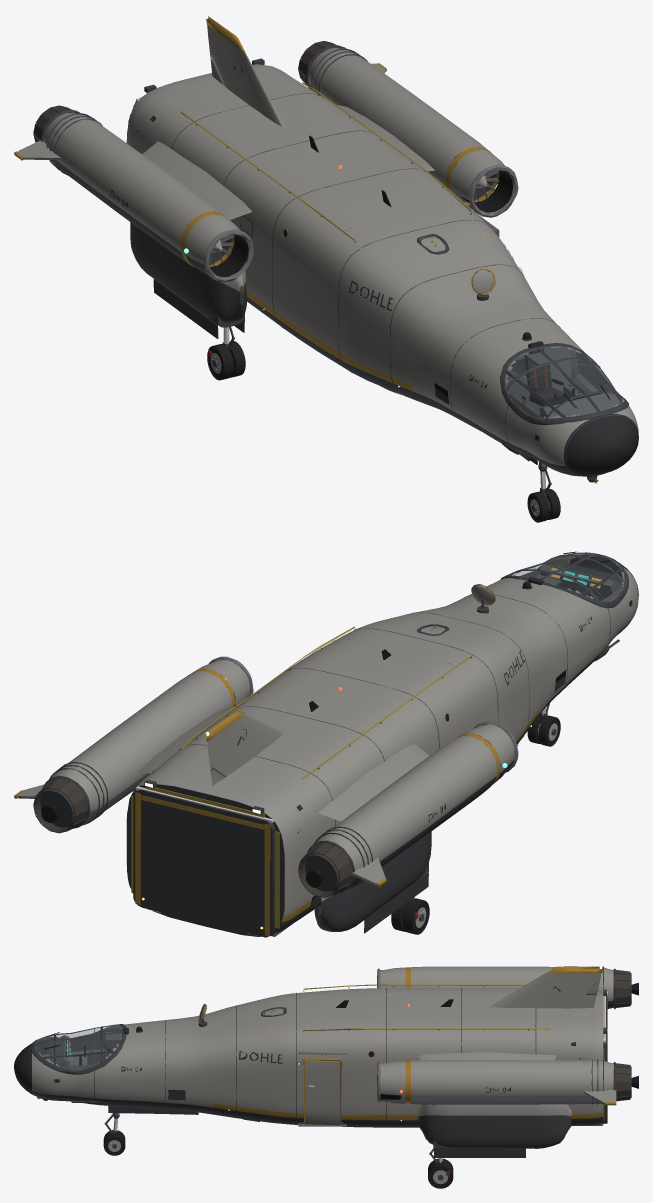
File: DohleFern.90987d950e.glb
3 renders of one model, top to bottom at view 1: azimuth 30°, elevation 25°; view 2: azimuth 150°, elevation 25°; view 3: azimuth 270°, elevation 25°, orthographic. The views are drawn at different scales.
Parts seen in each view (by area): view 1: Fahrwerkswulst links.001, Kanzelglas.001, Flosse.002, Dachluke.001, Rumpf.004, Antenne.004, Gondel links.001, Dachlukenfuge.001, Einlasslippe.002, Deckenpult.001, Handlaufstuetze.012, Duesenglocke.002 (+8 smaller); view 2: Fahrwerkswulst links.001, Rampenplatte.001, Flosse.002, Duesenglocke.002, Kanzelglas.001, Dachluke.001, Heckrahmen.001, Griff.005, Rampenrand aussen.002, Glut.002, Dachlukenfuge.001, Gondel links.001 (+9 smaller); view 3: Fahrwerkswulst links.001, Tuer.001, Kanzelglas.001, Dachluke.001, Gondel links.001, Flosse.002, Duesenglocke.002, Cockpitwanne.001, Griff.005, Wulstklappe.004, Deckenpult.001, Dachlukenfuge.001 (+8 smaller).
Boxes of the visible parts, bbox=[...] form: Fahrwerkswulst links.001: bbox=[43, 24, 638, 476]; Kanzelglas.001: bbox=[506, 346, 624, 418]; Flosse.002: bbox=[18, 63, 494, 294]; Dachluke.001: bbox=[41, 45, 628, 424]; Rumpf.004: bbox=[564, 414, 638, 475]; Antenne.004: bbox=[150, 116, 610, 461]; Gondel links.001: bbox=[180, 16, 499, 391]; Dachlukenfuge.001: bbox=[172, 93, 638, 476]; Einlasslippe.002: bbox=[204, 164, 518, 281]; Deckenpult.001: bbox=[515, 348, 620, 418]; Handlaufstuetze.012: bbox=[46, 48, 547, 406]; Duesenglocke.002: bbox=[33, 41, 598, 483]; Fahrwerkswulst links.001: bbox=[51, 553, 638, 936]; Rampenplatte.001: bbox=[133, 789, 275, 937]; Flosse.002: bbox=[17, 585, 494, 885]; Duesenglocke.002: bbox=[33, 601, 632, 919]; Kanzelglas.001: bbox=[511, 553, 624, 601]; Dachluke.001: bbox=[42, 552, 629, 893]; Heckrahmen.001: bbox=[127, 586, 610, 936]; Griff.005: bbox=[131, 626, 472, 928]; Rampenrand aussen.002: bbox=[135, 792, 270, 936]; Glut.002: bbox=[40, 791, 337, 891]; Dachlukenfuge.001: bbox=[179, 554, 638, 825]; Gondel links.001: bbox=[128, 669, 538, 922]; Fahrwerkswulst links.001: bbox=[32, 966, 613, 1148]; Tuer.001: bbox=[305, 1060, 340, 1125]; Kanzelglas.001: bbox=[35, 1025, 121, 1069]; Dachluke.001: bbox=[31, 968, 615, 1115]; Gondel links.001: bbox=[214, 966, 603, 1120]; Flosse.002: bbox=[199, 1004, 616, 1104]; Duesenglocke.002: bbox=[37, 970, 631, 1124]; Cockpitwanne.001: bbox=[36, 1029, 121, 1069]; Griff.005: bbox=[271, 984, 604, 1119]; Wulstklappe.004: bbox=[434, 1147, 525, 1157]; Deckenpult.001: bbox=[49, 1032, 340, 1092]; Dachlukenfuge.001: bbox=[30, 988, 536, 1127].
Size of the model in its own units: 8.15 by 5.49 by 16.7.
